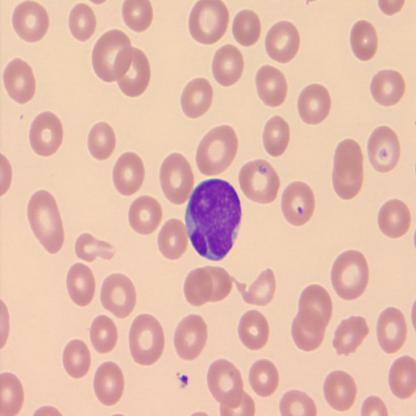Blast: (183, 175, 243, 263)
